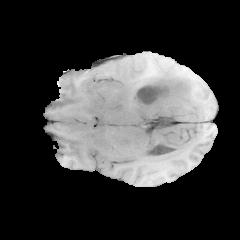glioma: (132, 68, 197, 108)
